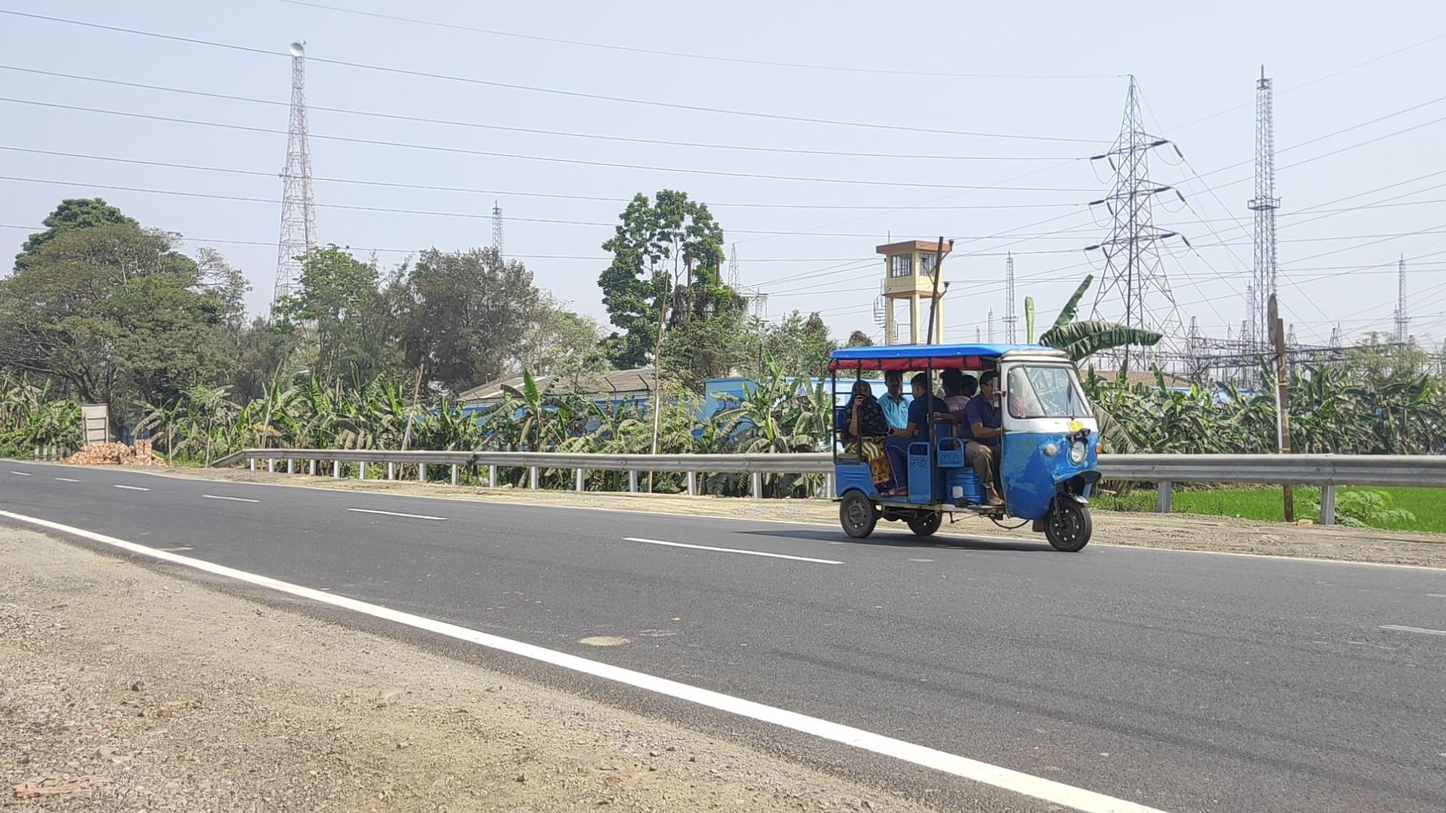Auto: (828, 343, 1102, 553)
